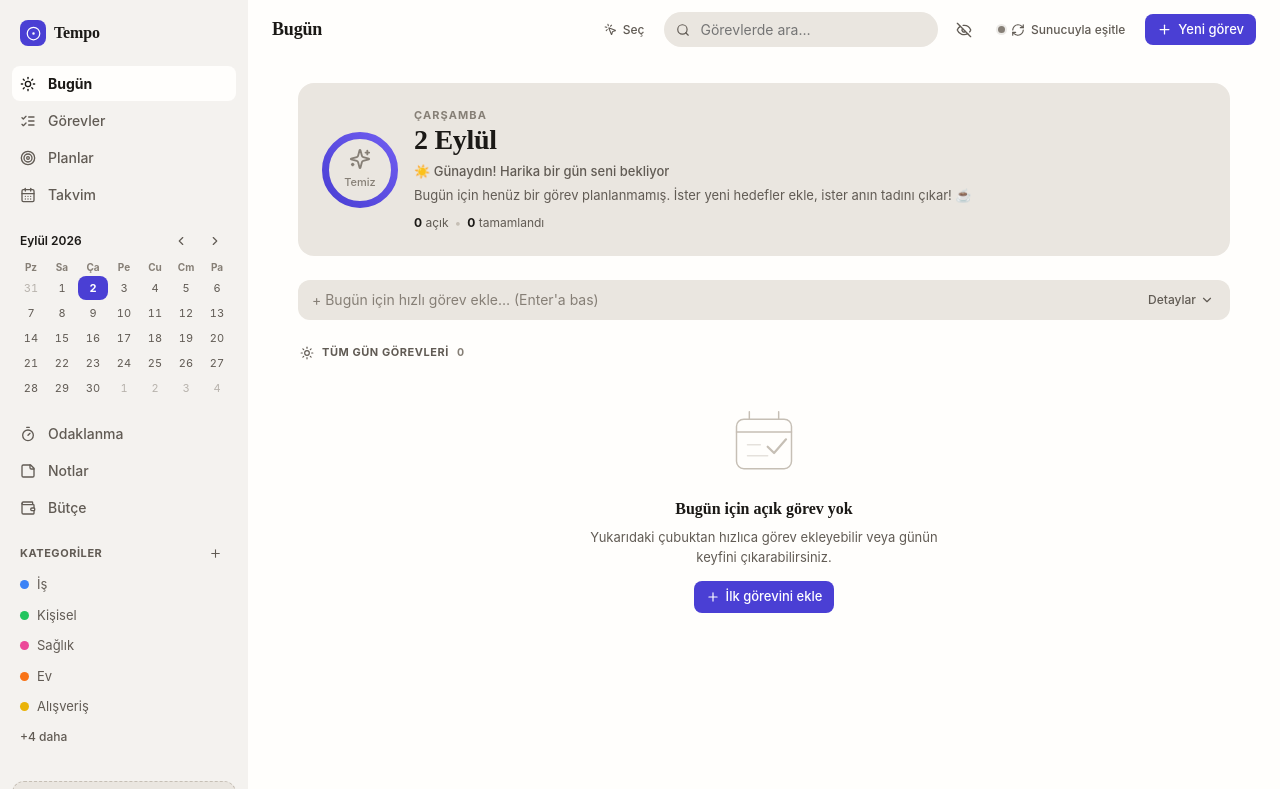
Test: the select button › is not on the one screen where it would do nothing
The width and height of the screenshot is (1280, 789).
Click the button "Bütçe" at {"x": 124, "y": 508}, box [12,490,236,525]
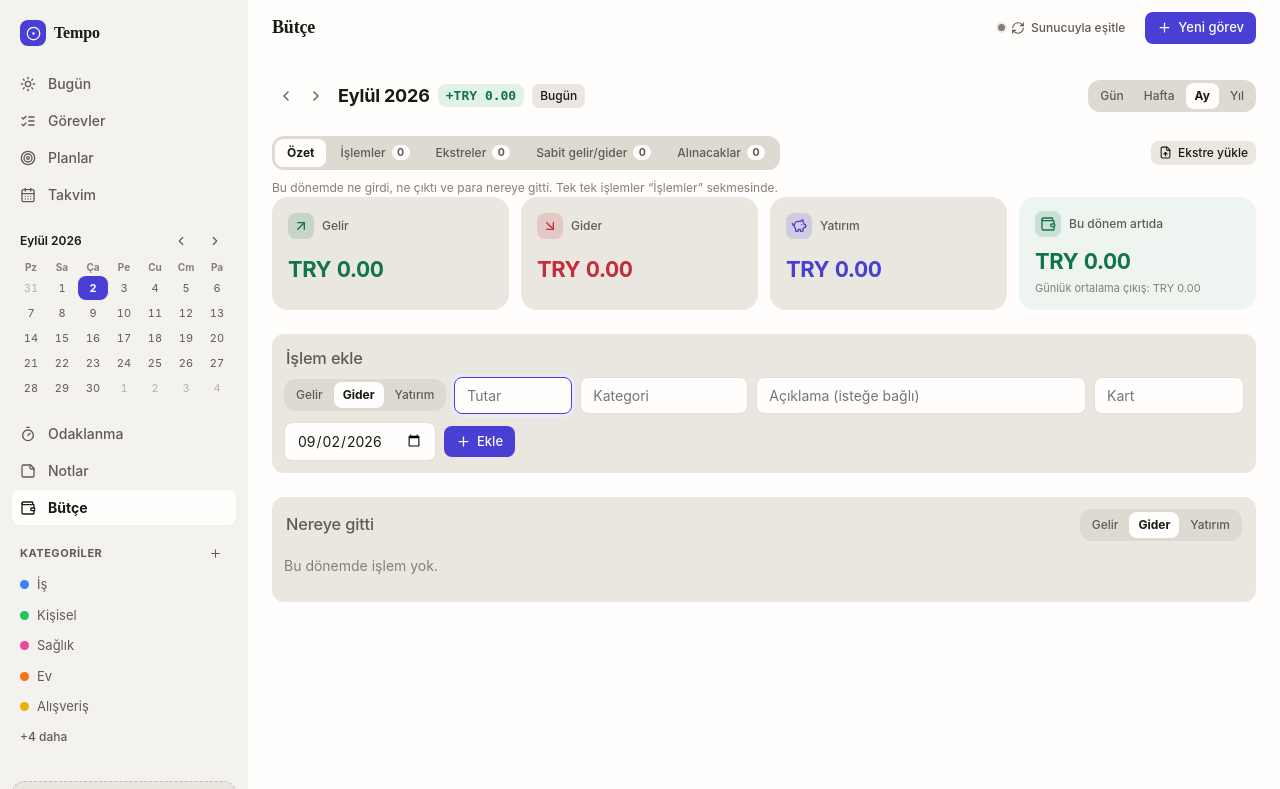
expect the button "Seç" is gone: met
